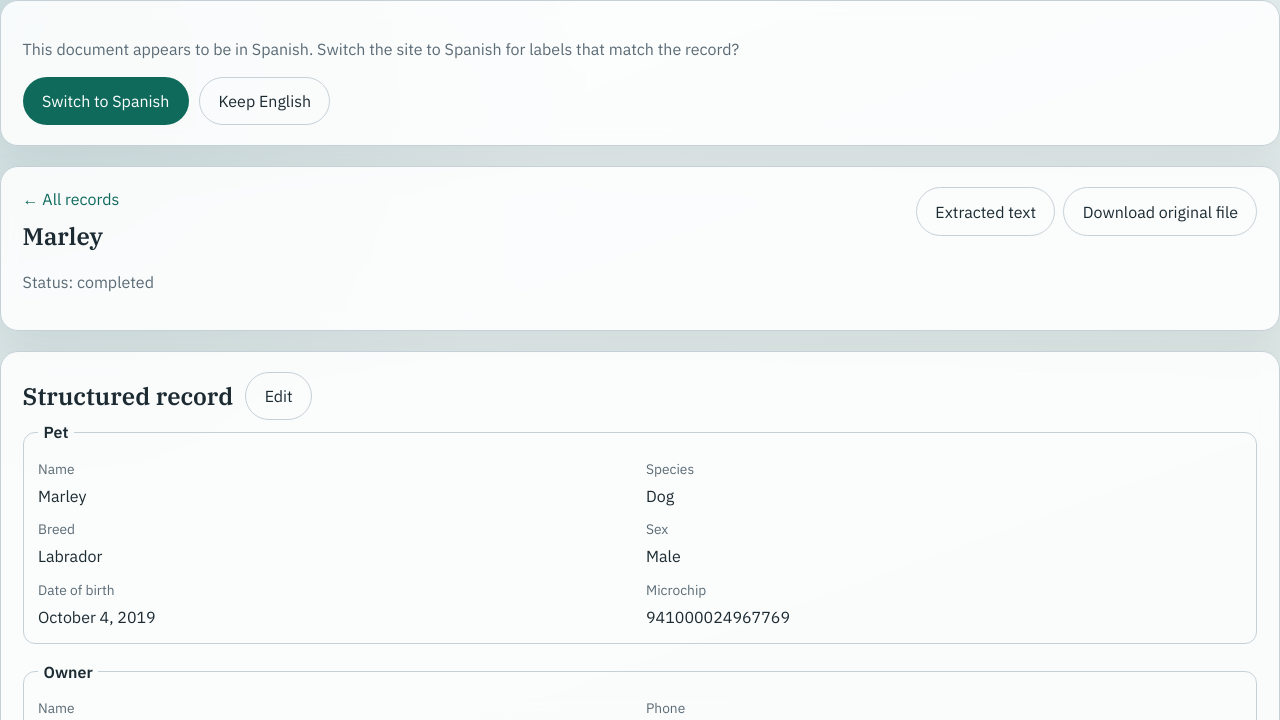
Scenario: RecordPage › shows a success notice after saving corrections
The width and height of the screenshot is (1280, 720).
Click the button "Edit" at (279, 396), box [245,372,312,420]
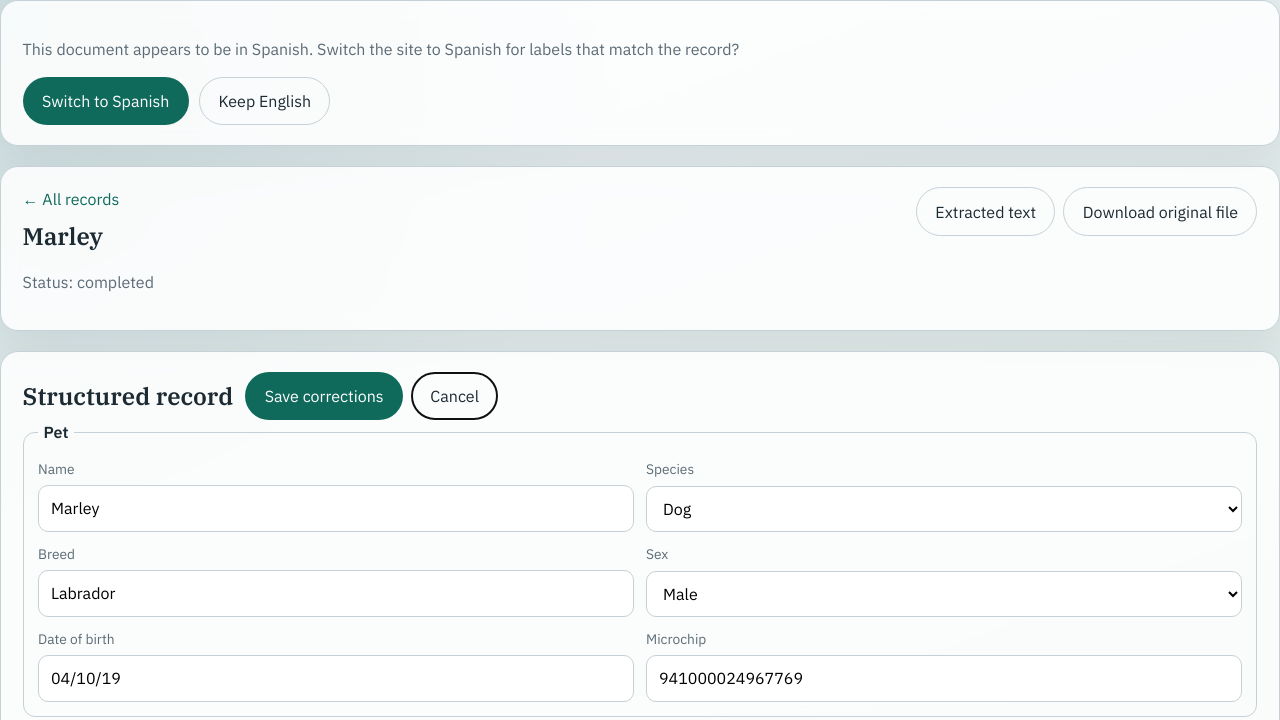
Replace the text in the field labelled "Name" with "Buddy" at (336, 508), box [38,485,634,532]
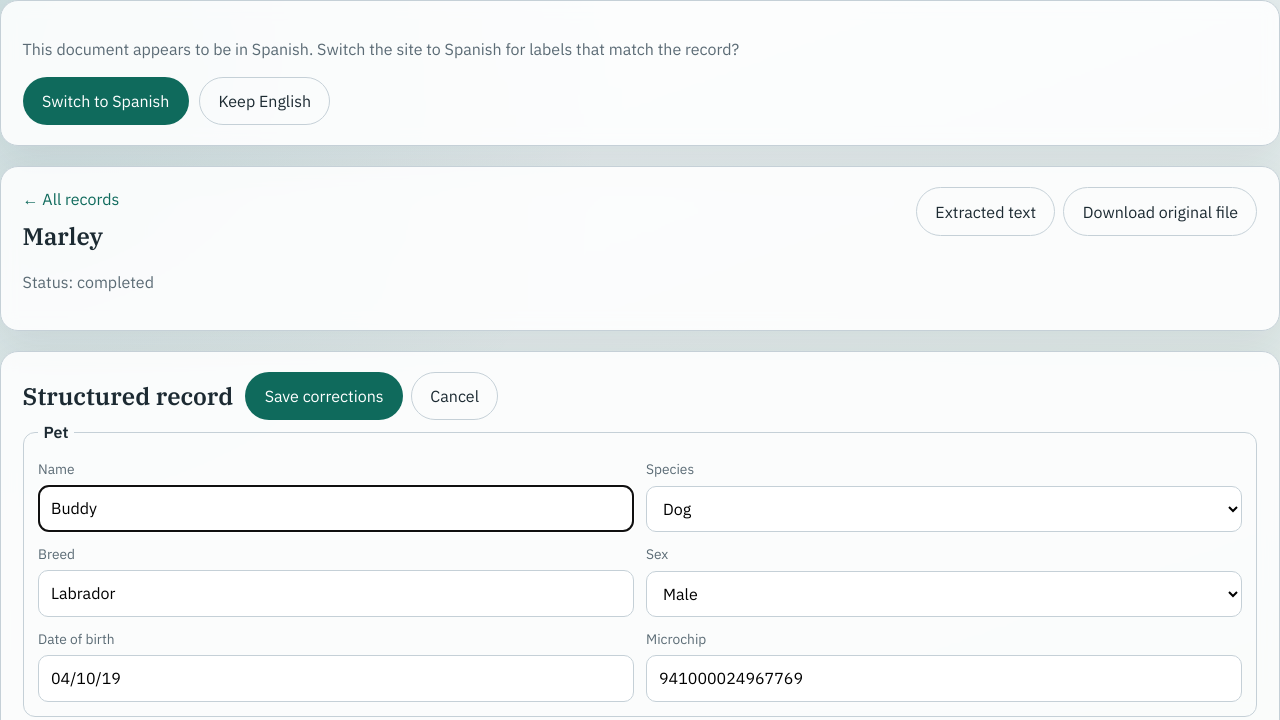
Click the button "Save corrections" at (324, 396), box [245,372,403,420]
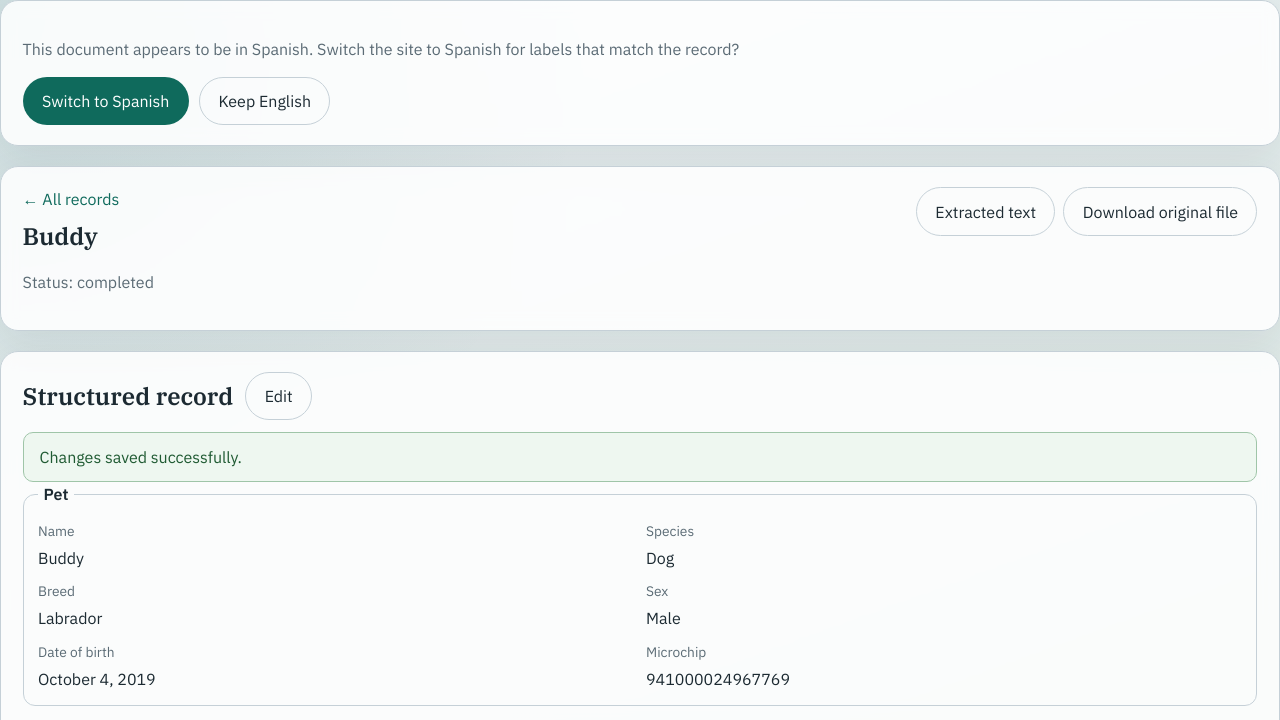
Expected: the text "Changes saved successfully." is shown, [23,432,1257,482]
Expected: the button "Edit" is shown, [245,372,312,420]
